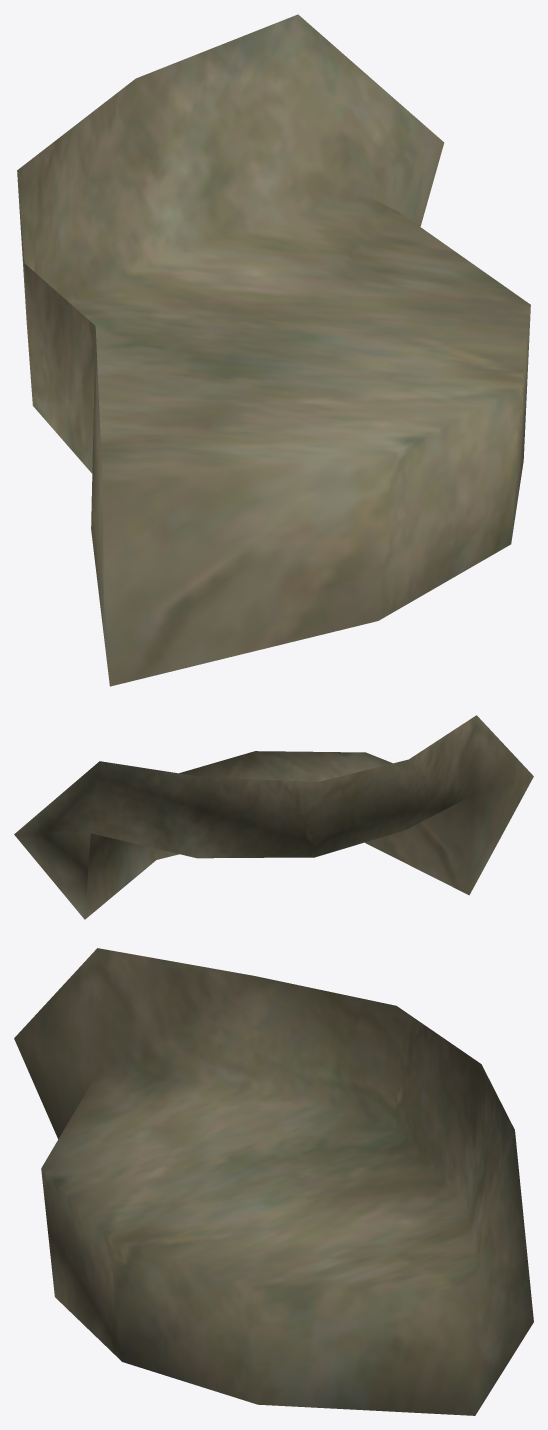
The model's file is EKH_CAVERNS_PS_CA_PLATFORM_74658.fbx.
3 views of the same model, one above another, from view 1: azimuth 30°, elevation 25°; view 2: azimuth 150°, elevation 25°; view 3: azimuth 270°, elevation 25° (orthographic). The views are drawn at different scales.
Visible parts, largest first — view 1: EKH_CAVERNS_PS_CA_PLATFORM_74658; view 2: EKH_CAVERNS_PS_CA_PLATFORM_74658; view 3: EKH_CAVERNS_PS_CA_PLATFORM_74658.
Part boxes in pixels (left/top/right/bottom): EKH_CAVERNS_PS_CA_PLATFORM_74658: left=17, top=14, right=530, bottom=686; EKH_CAVERNS_PS_CA_PLATFORM_74658: left=14, top=715, right=533, bottom=919; EKH_CAVERNS_PS_CA_PLATFORM_74658: left=14, top=948, right=533, bottom=1415.
Size of the model in its own units: 22506 by 11246 by 19214.
1 material, 1 textured.
